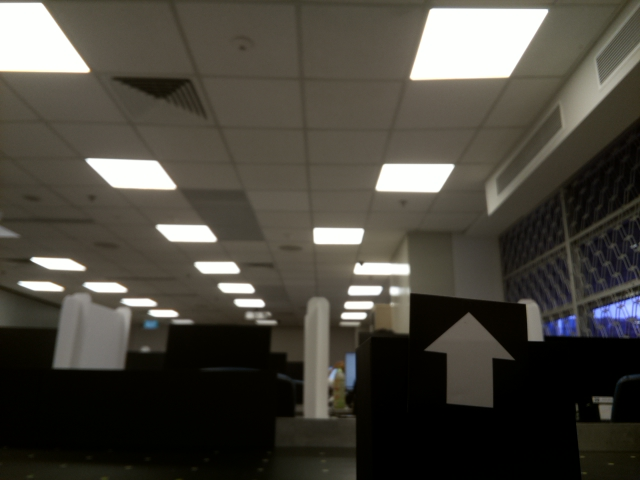up: (418, 304, 517, 414)
